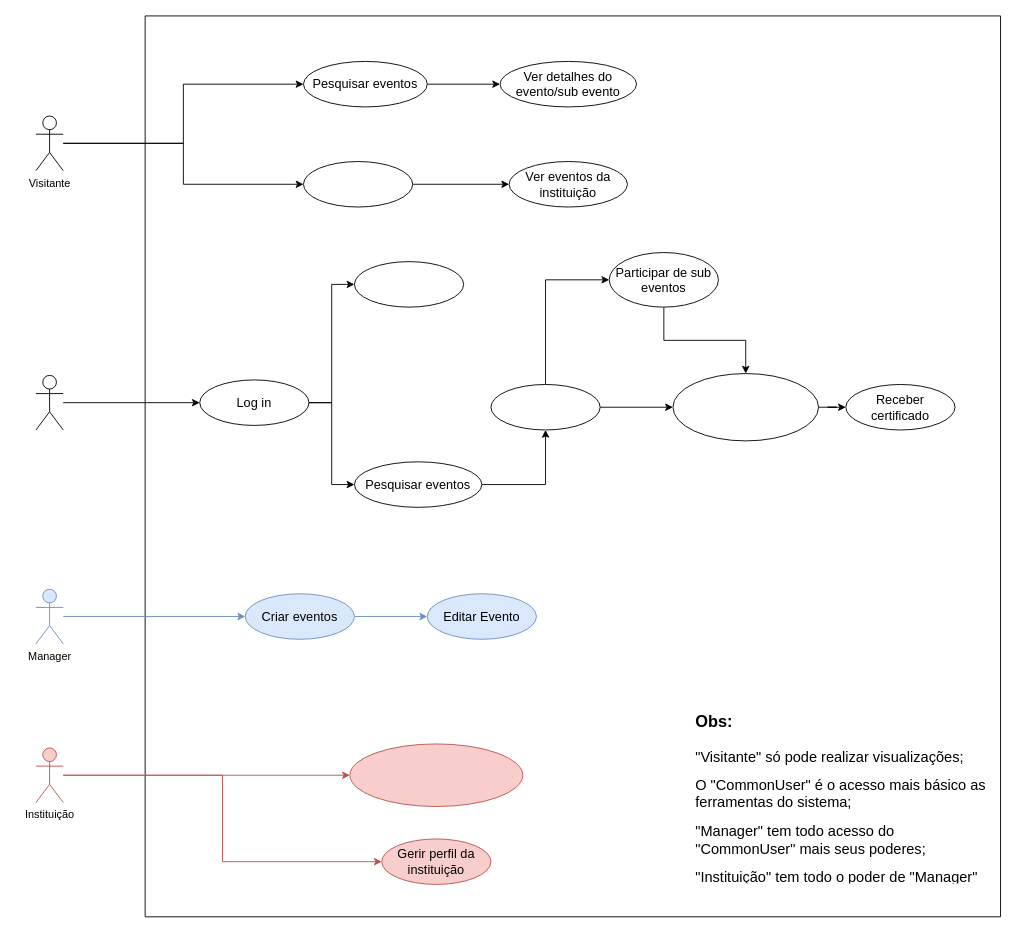
This 1016x933 diagram has some shape labels left out. The shapes that lost their labels are listed below. From the top down, each one's centre as x and y in pixels, then its label:
At pixel 358 184: "Ver Instituições".
At pixel 409 284: "Editar Perfil".
At pixel 49 402: "CommonUser".
At pixel 545 407: "Participar de Eventos".
At pixel 745 407: "Confirmar presença no evento/ sub evento".
At pixel 436 775: "Adicionar representantes".
